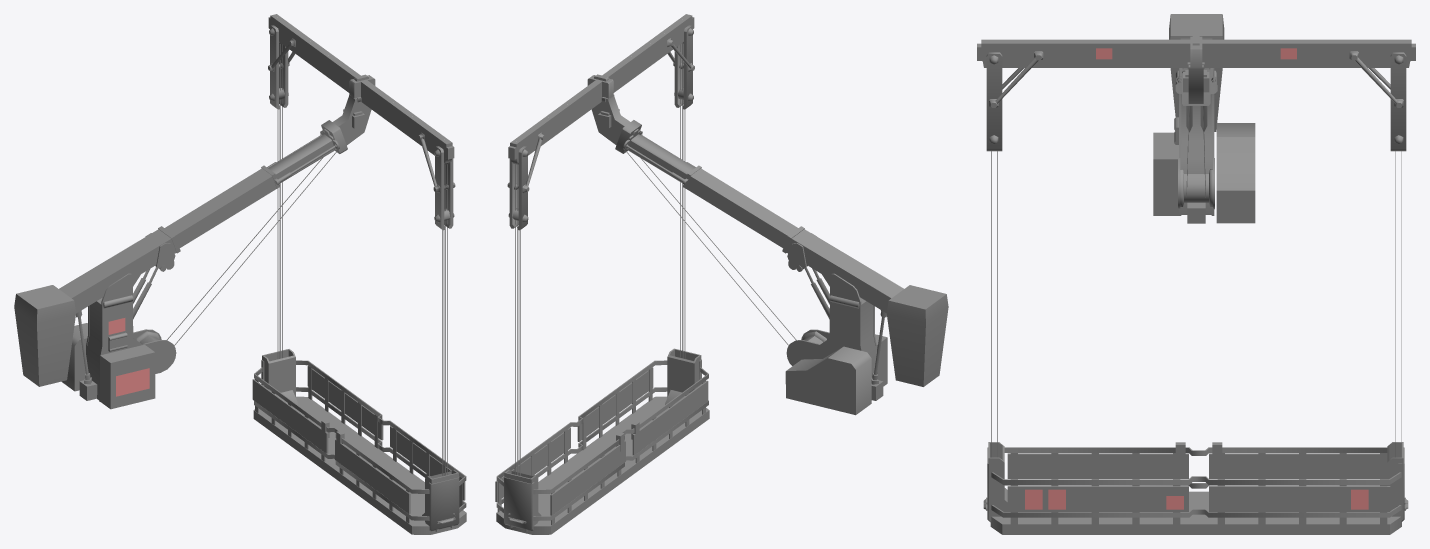
Rendered from S_Envi_Umeda_TowerCrane_02b.gltf.
3 views of the same model, side by side, from view 1: azimuth 30°, elevation 25°; view 2: azimuth 150°, elevation 25°; view 3: azimuth 270°, elevation 25° (orthographic). The views are drawn at different scales.
Visible parts, largest first — view 1: S_Envi_Umeda_TowerCrane_02b; view 2: S_Envi_Umeda_TowerCrane_02b; view 3: S_Envi_Umeda_TowerCrane_02b.
Part boxes in pixels (x1,y1,x2,y2): S_Envi_Umeda_TowerCrane_02b: (14, 14, 466, 534); S_Envi_Umeda_TowerCrane_02b: (495, 14, 948, 534); S_Envi_Umeda_TowerCrane_02b: (977, 14, 1415, 534).
Bounding box in the file's own units: 16.89 × 17.47 × 14.45.
